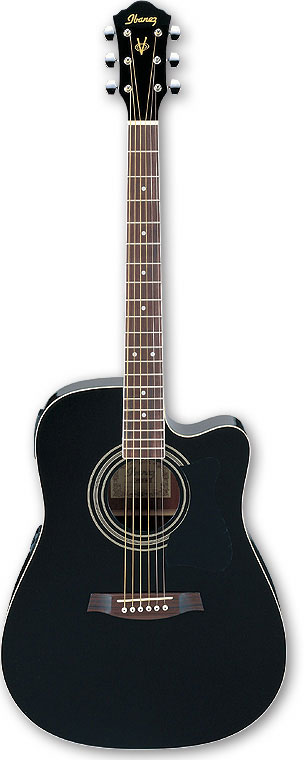guitar: (2, 1, 291, 749)
